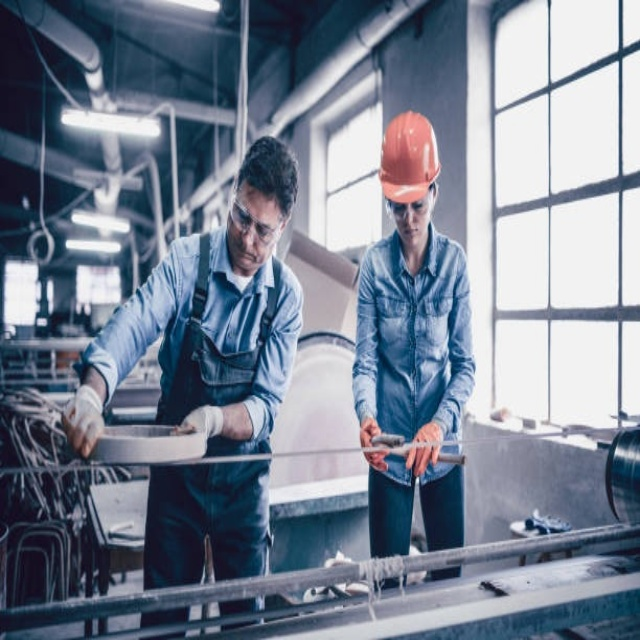Gafas: (232, 190, 282, 242), (388, 188, 431, 217)
Guantes: (62, 387, 104, 457), (405, 421, 442, 478), (179, 404, 223, 445), (359, 416, 390, 470)
Sin_mascara: (230, 243, 259, 270), (398, 220, 424, 242)
